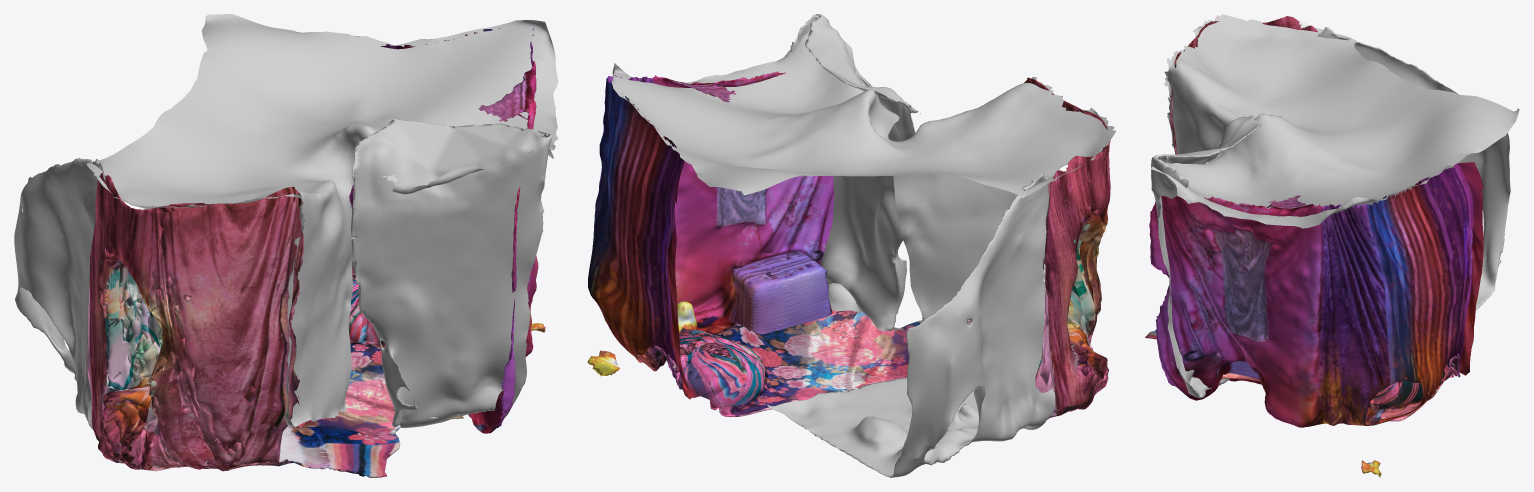
Rendered from JOINED-TEST.gltf.
3 renders of one model, left to right at view 1: azimuth 30°, elevation 25°; view 2: azimuth 150°, elevation 25°; view 3: azimuth 270°, elevation 25°, orthographic. The views are drawn at different scales.
Visible parts, largest first — view 1: Techo-low, LAMPARA, CORTINA-LOW, COSTADO-low, RESTO-LOW; view 2: Techo-low, RESTO-LOW, COSTADO-low, LAMPARA, CORTINA-LOW; view 3: RESTO-LOW, Techo-low, COSTADO-low, CORTINA-LOW, LAMPARA.
Boxes of the visible parts, x1=… form: Techo-low: x1=86, y1=14, x2=558, y2=427; LAMPARA: x1=87, y1=173, x2=463, y2=477; CORTINA-LOW: x1=350, y1=118, x2=551, y2=428; COSTADO-low: x1=14, y1=158, x2=113, y2=429; RESTO-LOW: x1=349, y1=28, x2=545, y2=433; Techo-low: x1=612, y1=31, x2=1115, y2=320; RESTO-LOW: x1=587, y1=71, x2=834, y2=399; COSTADO-low: x1=766, y1=172, x2=1055, y2=477; LAMPARA: x1=634, y1=77, x2=1110, y2=419; CORTINA-LOW: x1=790, y1=14, x2=920, y2=331; RESTO-LOW: x1=1149, y1=162, x2=1483, y2=477; Techo-low: x1=1150, y1=14, x2=1519, y2=228; COSTADO-low: x1=1318, y1=27, x2=1510, y2=309; CORTINA-LOW: x1=1151, y1=115, x2=1261, y2=398; LAMPARA: x1=1145, y1=16, x2=1460, y2=421.
Size of the model in its own units: 3.76 by 2.37 by 2.88.
